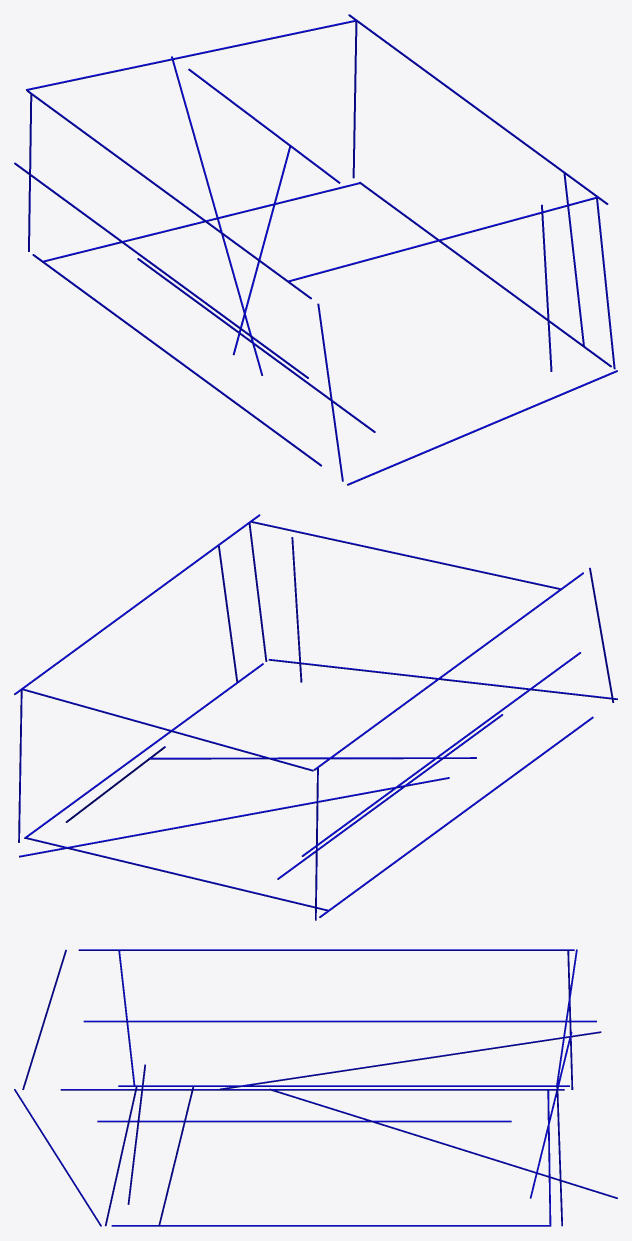
Rendered from corrected_3d_strokes.glb.
3 views of the same model, one above another, from view 1: azimuth 30°, elevation 25°; view 2: azimuth 150°, elevation 25°; view 3: azimuth 270°, elevation 25° (orthographic). The views are drawn at different scales.
Parts seen in each view (by area): view 1: world; view 2: world; view 3: world.
Part boxes in pixels (x1=…): world: x1=14, y1=14, x2=617, y2=485; world: x1=14, y1=514, x2=617, y2=920; world: x1=14, y1=949, x2=617, y2=1226.
Size of the model in its own units: 7.17 by 3.45 by 13.37.
